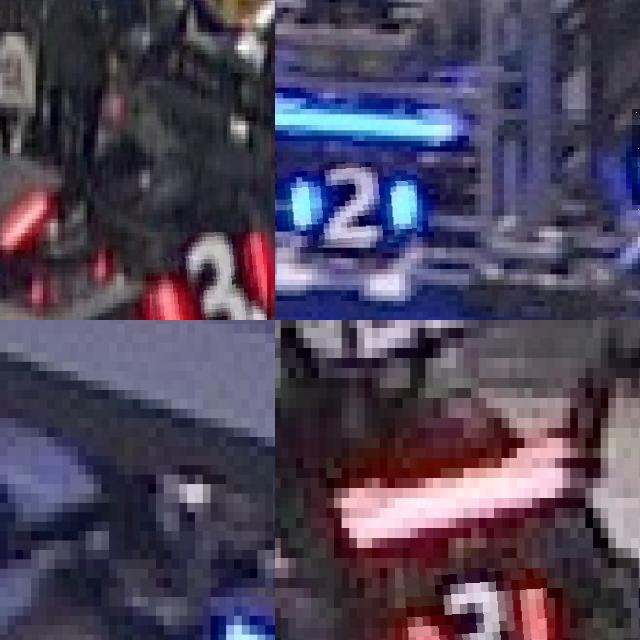B2: (277, 162, 417, 248)
R3: (394, 568, 547, 640), (145, 232, 267, 320)
